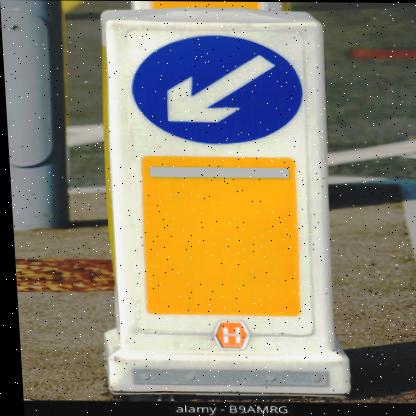Keep left: (118, 28, 314, 147)
